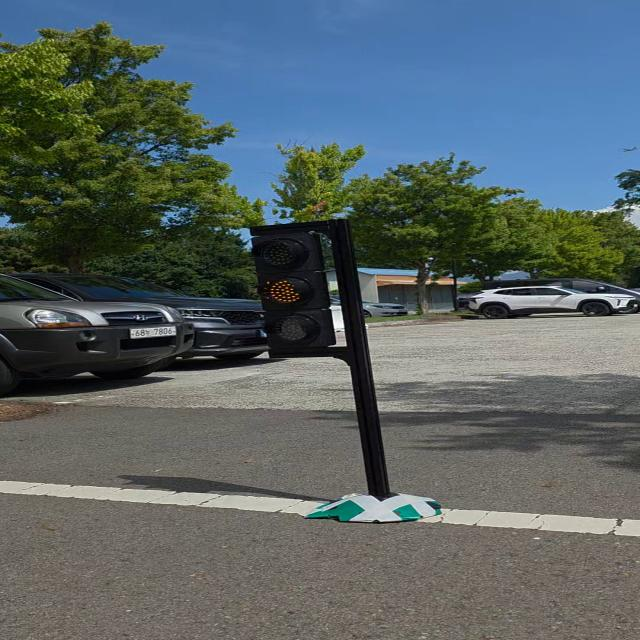yellow: (243, 234, 339, 352)
